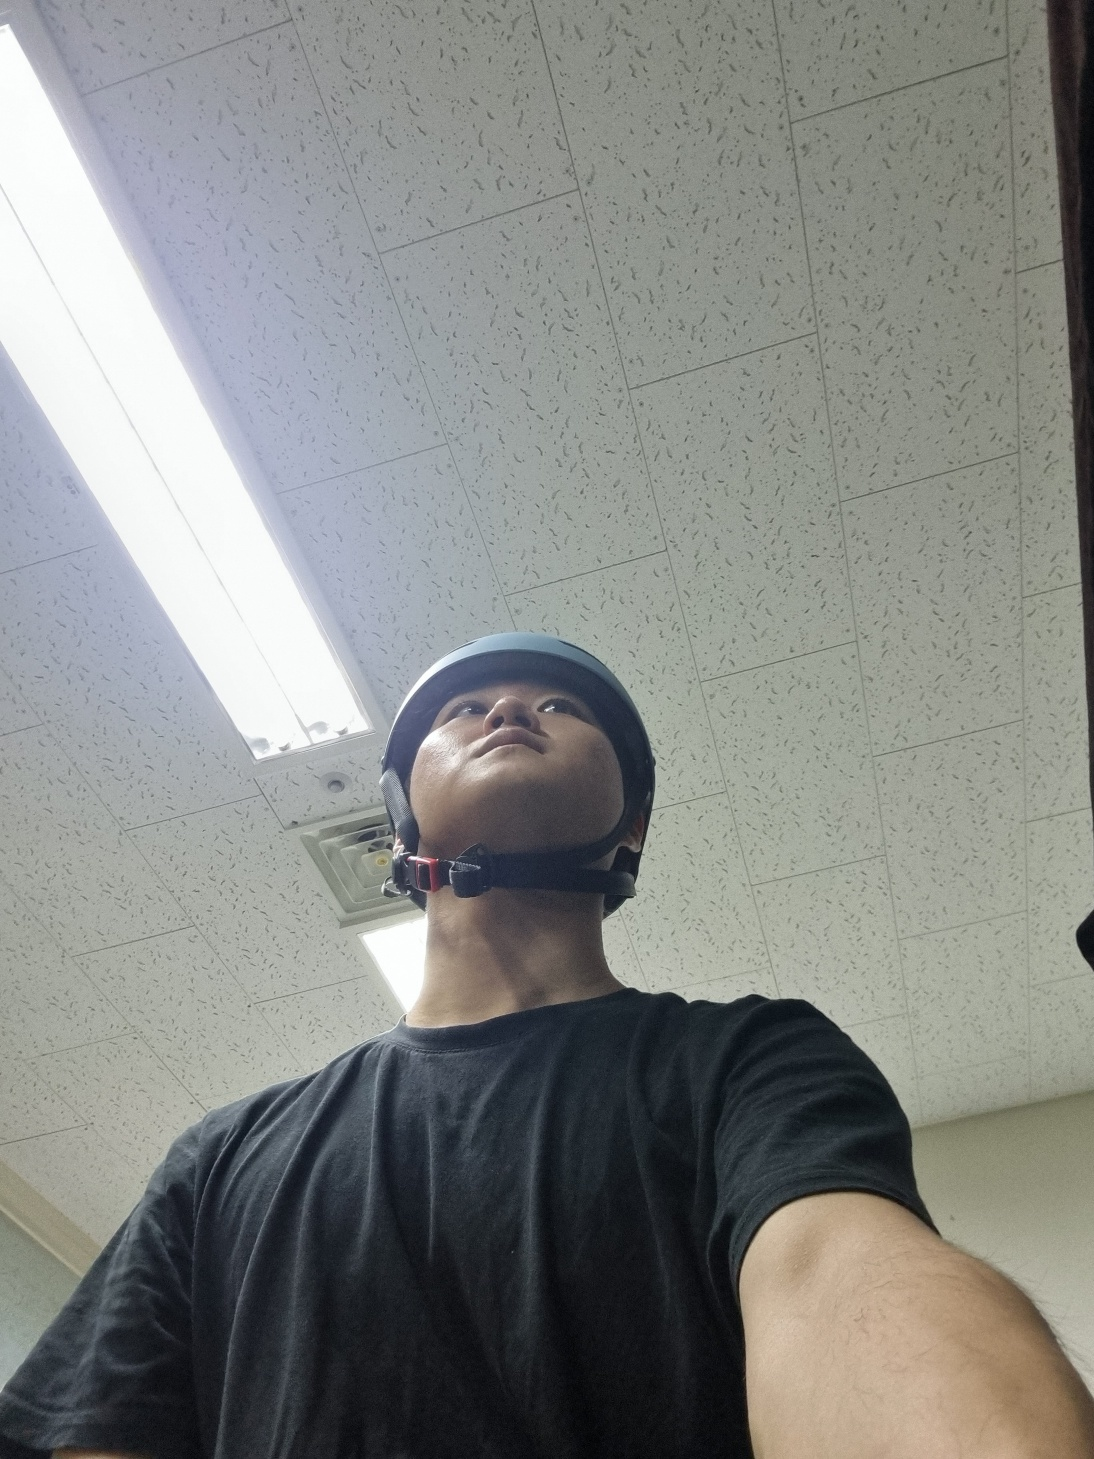Helmet: (322, 584, 707, 974)
